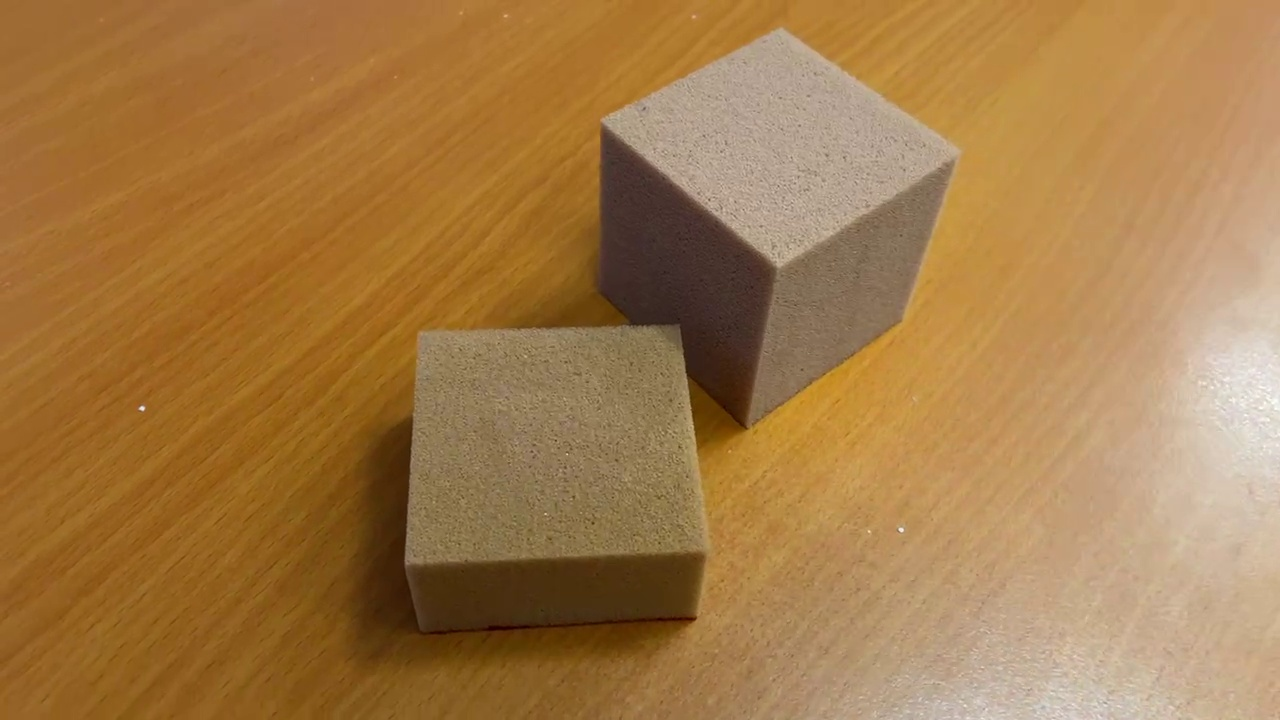Cube: (593, 23, 963, 436)
Cube_short: (396, 324, 710, 636)
